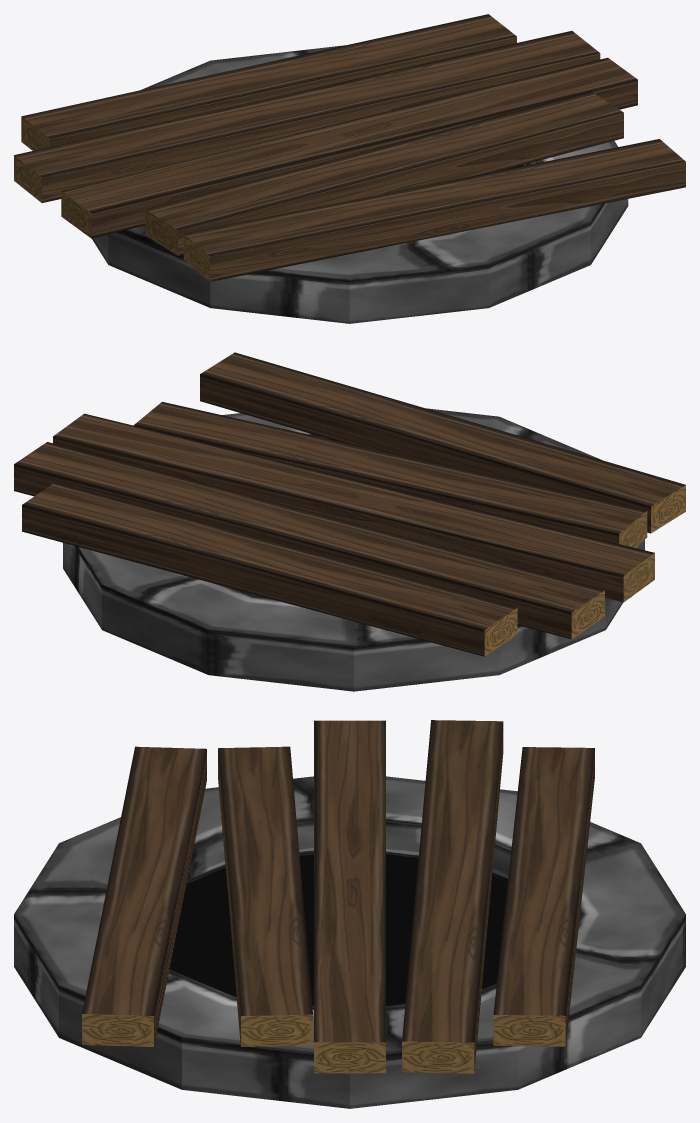
Rendered from Sewers_entrance.FBX.
3 views of the same model, one above another, from view 1: azimuth 30°, elevation 25°; view 2: azimuth 150°, elevation 25°; view 3: azimuth 270°, elevation 25° (orthographic). The views are drawn at different scales.
Parts seen in each view (by area): view 1: Sewers_entrance; view 2: Sewers_entrance; view 3: Sewers_entrance.
Part boxes in pixels (x1,y1,x2,y2): Sewers_entrance: (14, 14, 685, 323); Sewers_entrance: (14, 352, 685, 691); Sewers_entrance: (14, 720, 685, 1108).
Size of the model in its own units: 130 by 115 by 16.09.
